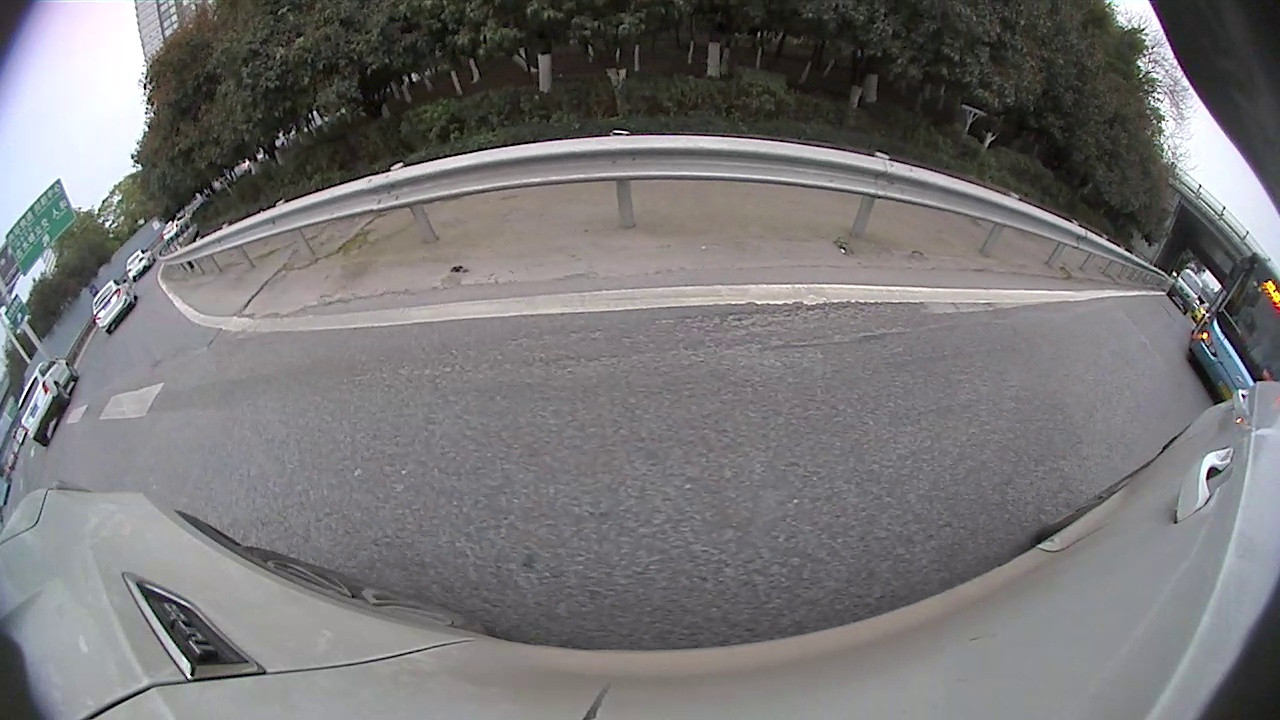bus: (1030, 128, 1209, 350)
car: (572, 21, 857, 170), (57, 247, 120, 311), (1194, 371, 1236, 439)
front: (798, 127, 845, 173)
rear: (613, 93, 664, 150)
